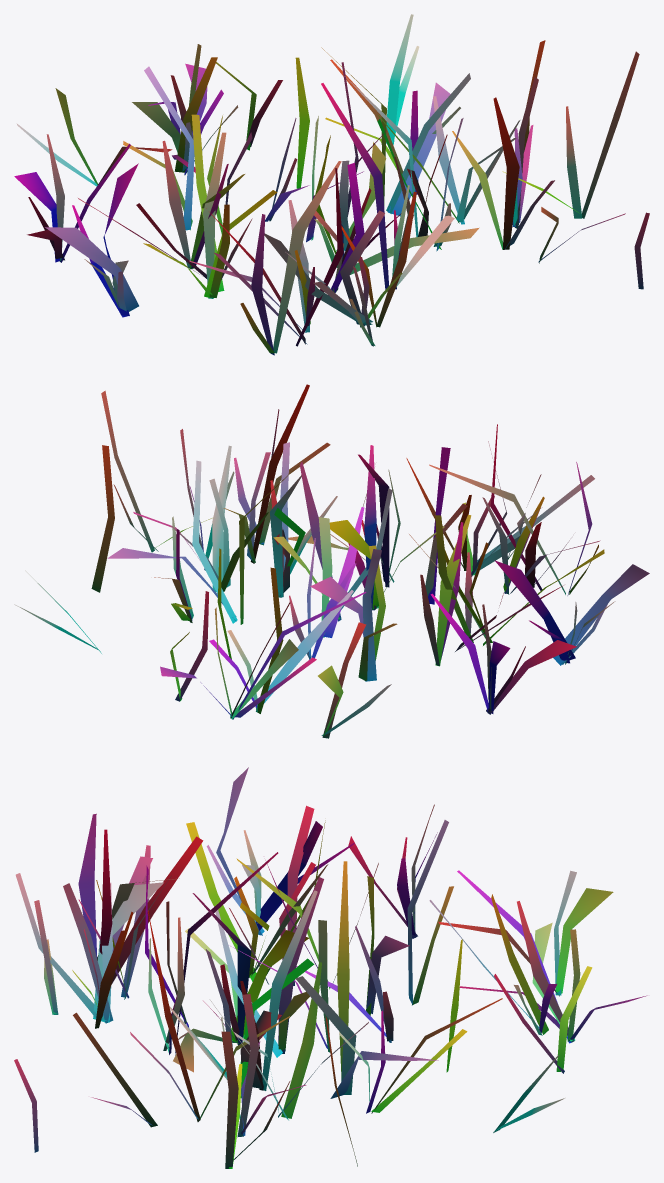
File: Grass_Clumps_qmBr2_High_qmBr2_VarB_LOD1.fbx
3 renders of one model, top to bottom at view 1: azimuth 30°, elevation 25°; view 2: azimuth 150°, elevation 25°; view 3: azimuth 270°, elevation 25°, orthographic. The views are drawn at different scales.
Parts seen in each view (by area): view 1: _d1ba_VarB_LOD1; view 2: _d1ba_VarB_LOD1; view 3: _d1ba_VarB_LOD1.
Boxes of the visible parts, x1,y1,x2,y2 form: _d1ba_VarB_LOD1: (14, 14, 649, 355); _d1ba_VarB_LOD1: (14, 384, 649, 738); _d1ba_VarB_LOD1: (14, 767, 647, 1168).
Bounding box in the file's own units: 75.28 × 22.81 × 65.68.
